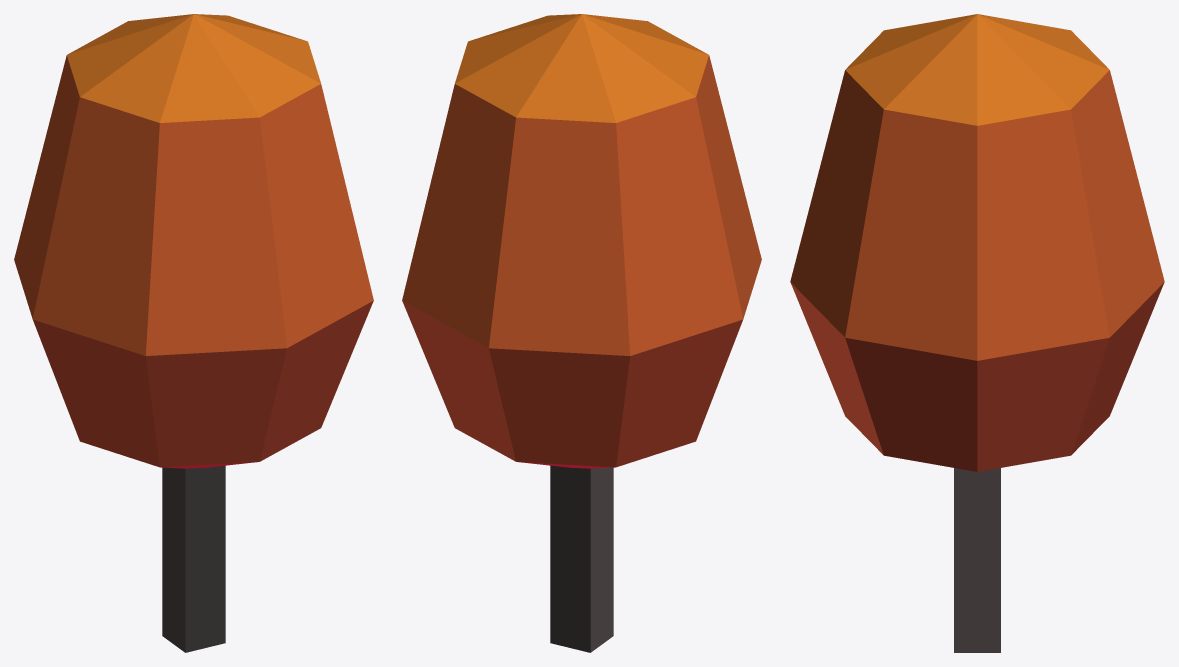
Rendered from TB_CITY_Env_Tree_Sphere_D.FBX.
The picture shows the model from 3 angles, left to right: view 1: azimuth 30°, elevation 25°; view 2: azimuth 150°, elevation 25°; view 3: azimuth 270°, elevation 25°; orthographic projection.
Parts seen in each view (by area): view 1: TB_CITY_Env_Tree_Sphere_D; view 2: TB_CITY_Env_Tree_Sphere_D; view 3: TB_CITY_Env_Tree_Sphere_D.
Boxes of the visible parts, x1,y1,x2,y2 form: TB_CITY_Env_Tree_Sphere_D: (14, 14, 373, 652); TB_CITY_Env_Tree_Sphere_D: (402, 14, 761, 652); TB_CITY_Env_Tree_Sphere_D: (790, 14, 1164, 652).
Size of the model in its own units: 2.88 by 5.33 by 2.88.
